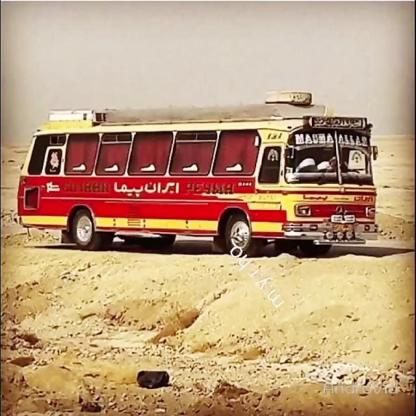Bus: (20, 86, 388, 266)
